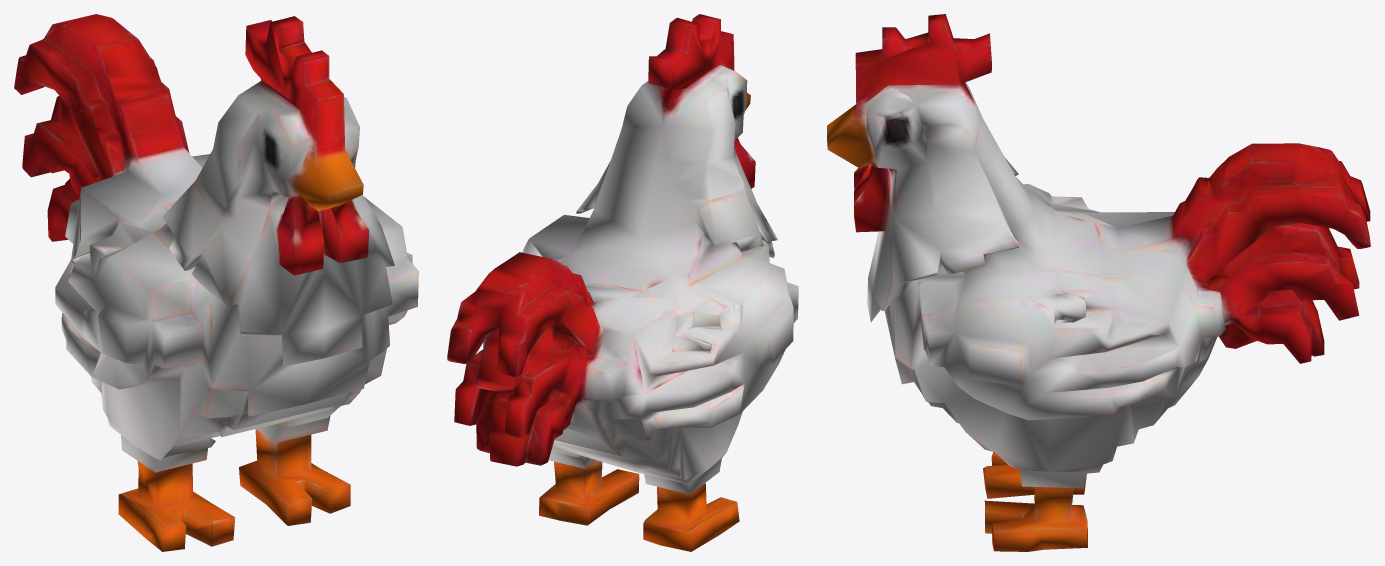
Rendered from chicken.glb.
The picture shows the model from 3 angles, left to right: view 1: azimuth 30°, elevation 25°; view 2: azimuth 150°, elevation 25°; view 3: azimuth 270°, elevation 25°; orthographic projection. The views are drawn at different scales.
Parts seen in each view (by area): view 1: material.001; view 2: material.001; view 3: material.001.
Boxes of the visible parts, bbox=[...] form: material.001: bbox=[14, 14, 418, 551]; material.001: bbox=[447, 14, 798, 551]; material.001: bbox=[827, 14, 1370, 551].
Size of the model in its own units: 0.5474 by 0.9698 by 0.9712.
1 material, 1 textured.
